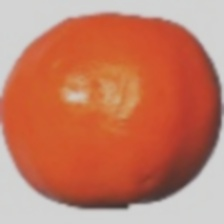tangerine: (21, 17, 196, 184)
